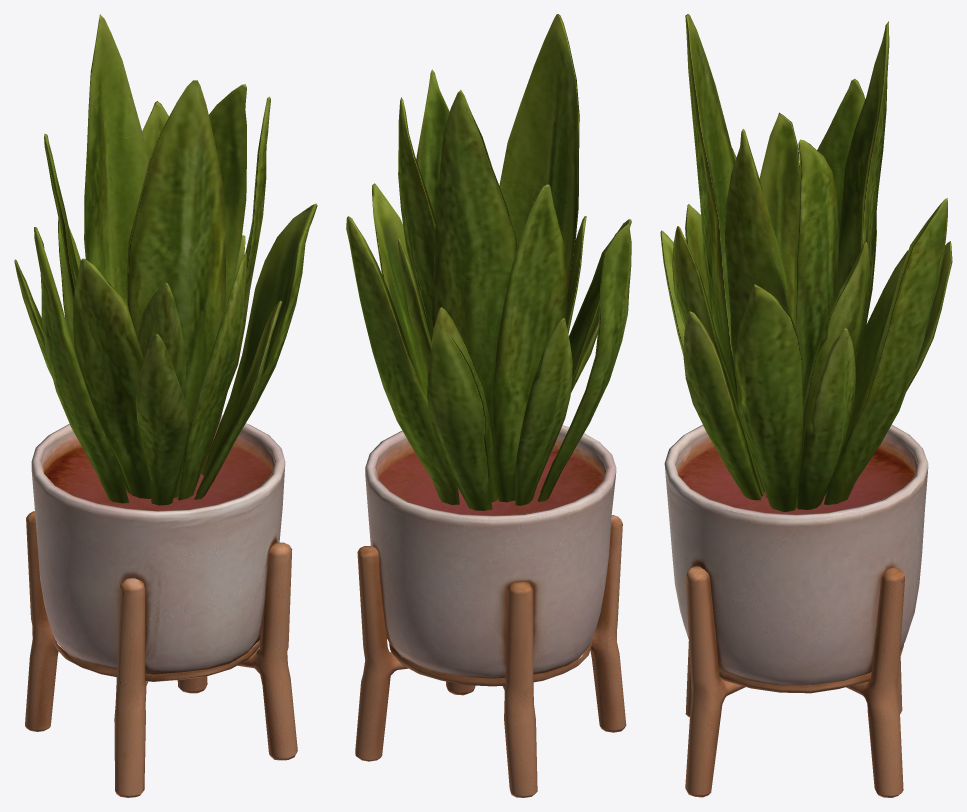
The model's file is snake_plant.glb.
The picture shows the model from 3 angles, left to right: view 1: azimuth 30°, elevation 25°; view 2: azimuth 150°, elevation 25°; view 3: azimuth 270°, elevation 25°; orthographic projection. The views are drawn at different scales.
Parts seen in each view (by area): view 1: geometry_0; view 2: geometry_0; view 3: geometry_0.
Part boxes in pixels (x1=…): geometry_0: x1=14, y1=14, x2=317, y2=797; geometry_0: x1=346, y1=14, x2=631, y2=797; geometry_0: x1=660, y1=14, x2=952, y2=797.
Bounding box in the file's own units: 0.4038 × 1 × 0.3628.
1 material, 1 textured.
